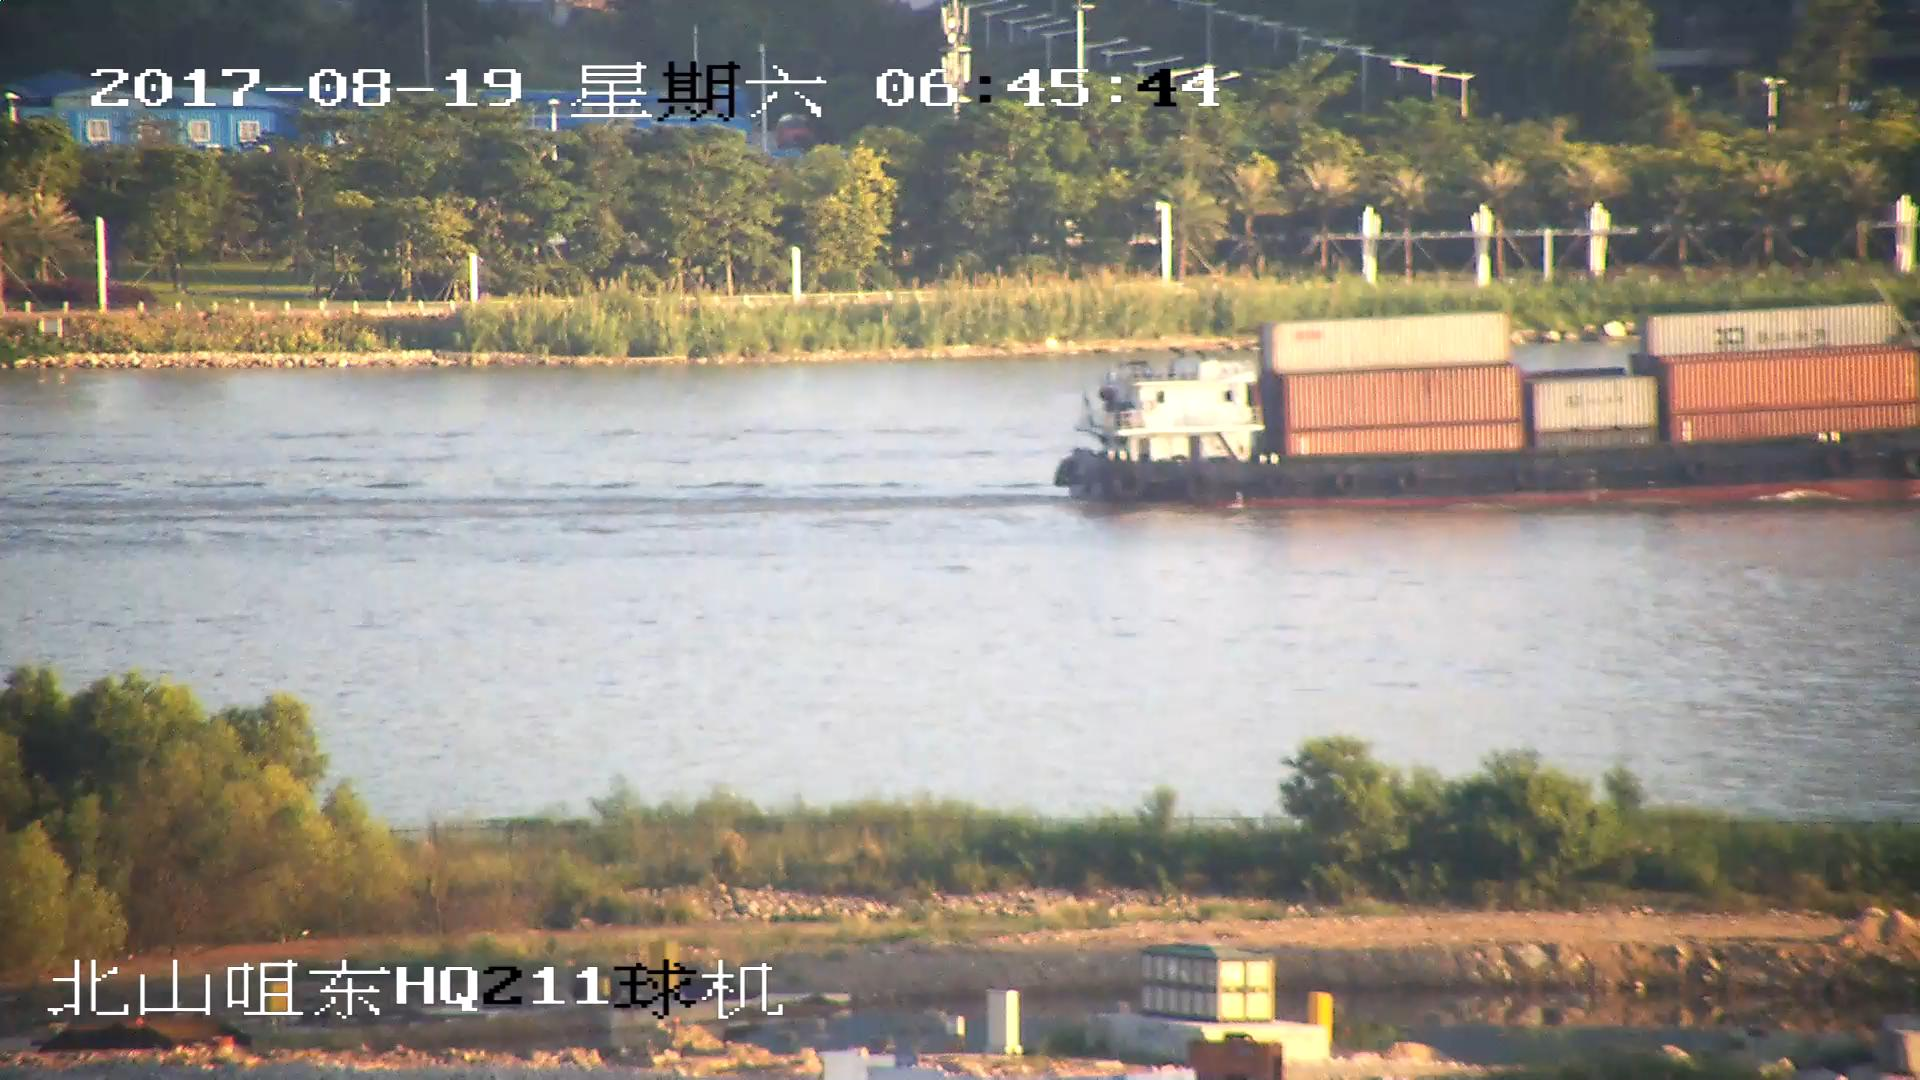container ship: (1056, 305, 1920, 515)
